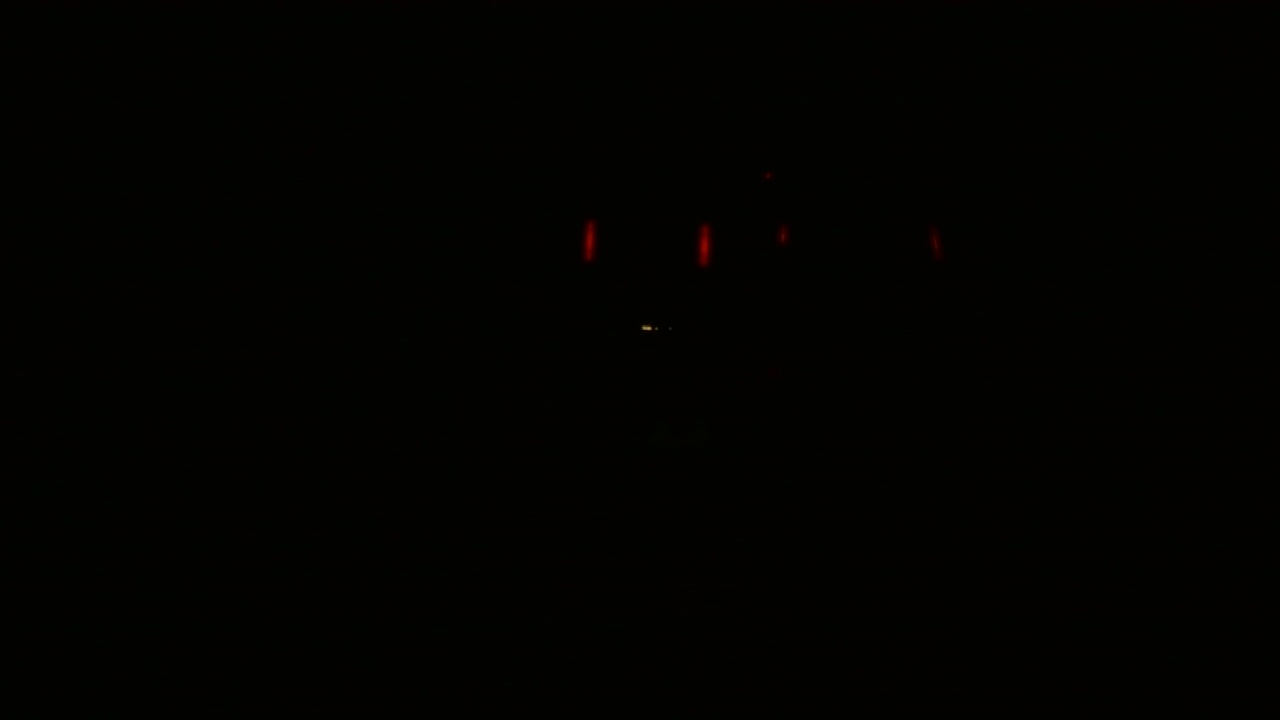pair1: (579, 219, 711, 268)
